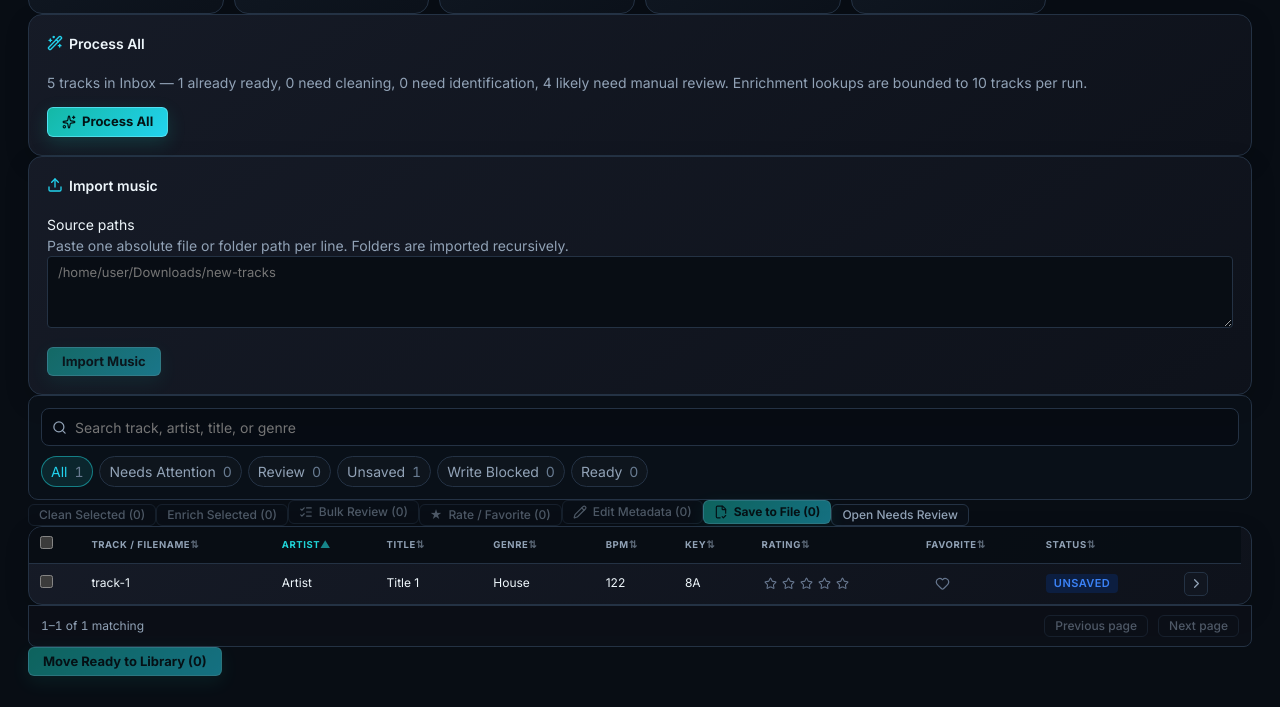
Inbox preparation status › shows Save to File only for selected tracks with current writable changes
The image size is (1280, 707).
(page scrolled)
Click the checkbox named "Select track-1.mp3": (46, 582) x1=40 y1=575 x2=53 y2=588
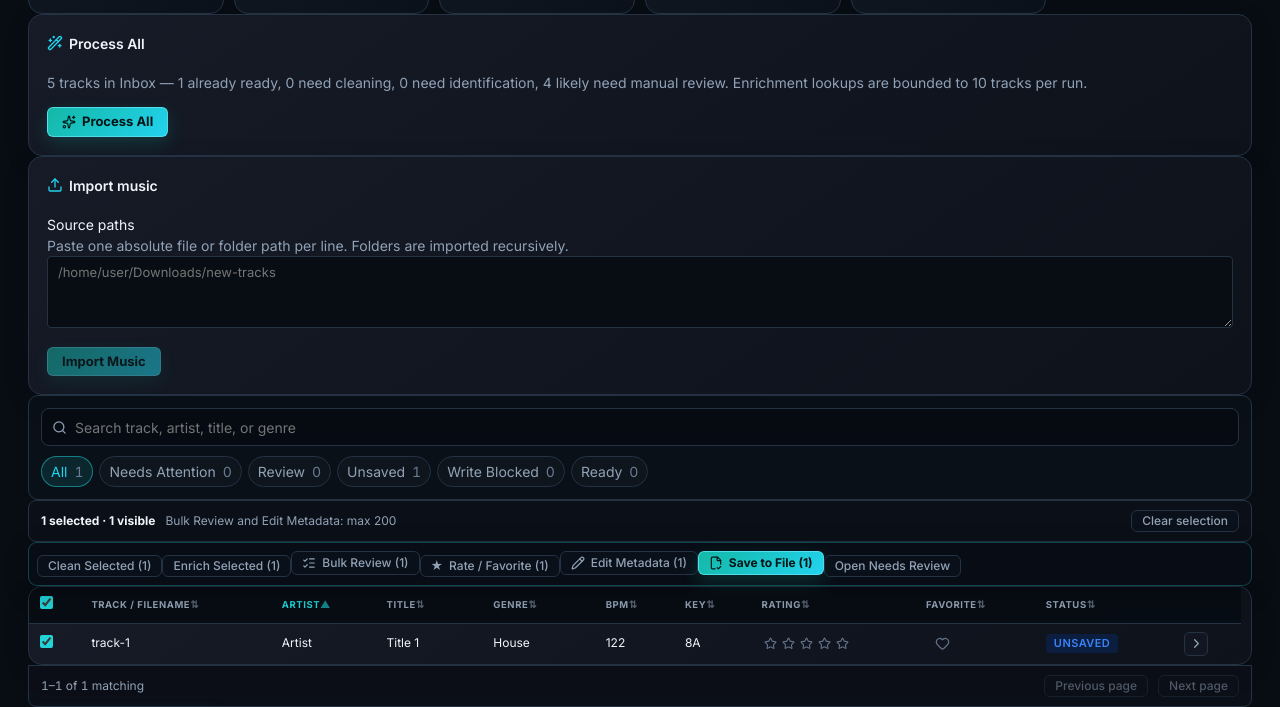
Now the button "Save to File (1)" is enabled, box x1=698 y1=551 x2=824 y2=575
